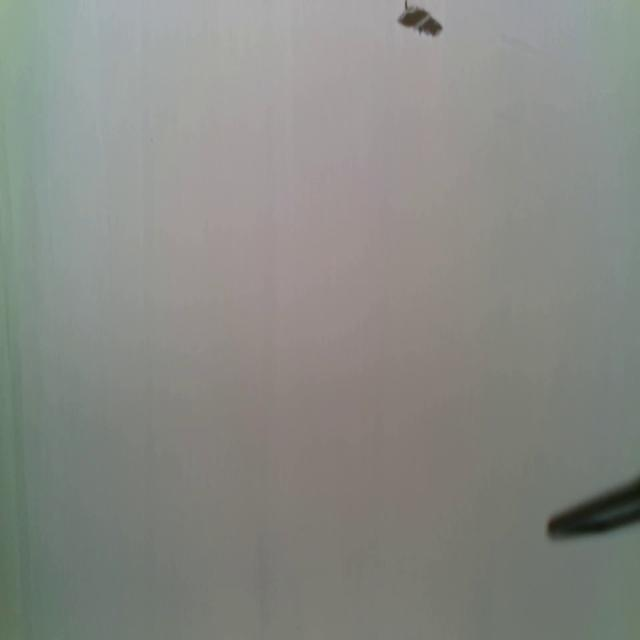hole: (396, 2, 443, 40)
